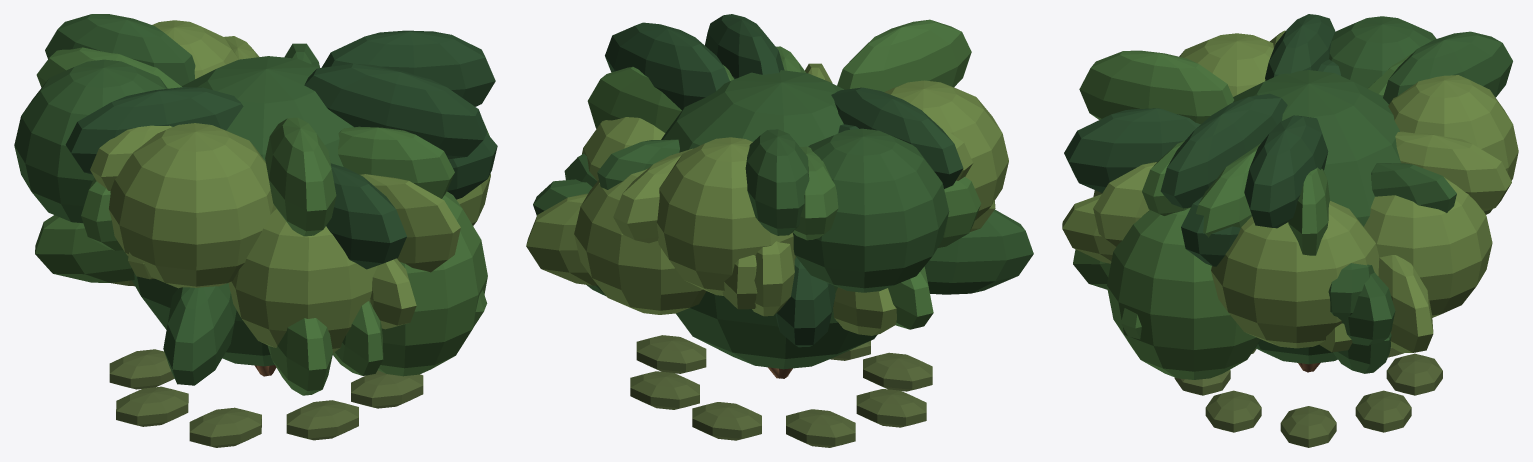
File: moita.glb
3 renders of one model, left to right at view 1: azimuth 30°, elevation 25°; view 2: azimuth 150°, elevation 25°; view 3: azimuth 270°, elevation 25°, orthographic. The views are drawn at different scales.
Parts seen in each view (by area): view 1: Massa de folhas 04, Massa de folhas 05, Núcleo de folhagem, Massa de folhas 03, Folha larga 22, Massa de folhas 06, Folha larga 31, Folha larga 17, Folha larga 28, Folha larga 37, Folha larga 26, Folha larga 30 (+18 smaller); view 2: Massa de folhas 03, Núcleo de folhagem, Massa de folhas 02, Massa de folhas 01, Folha larga 28, Folha larga 31, Massa de folhas 04, Folha larga 37, Folha larga 20, Folha larga 17, Folha larga 33, Folha larga 11 (+19 smaller); view 3: Massa de folhas 06, Massa de folhas 00, Núcleo de folhagem, Massa de folhas 01, Folha larga 28, Massa de folhas 02, Folha larga 22, Folha larga 26, Folha larga 31, Folha larga 20, Folha larga 35, Massa de folhas 03 (+21 smaller).
Boxes of the visible parts, left/top/right/bottom form: Massa de folhas 04: left=109, top=123, right=273, bottom=288; Massa de folhas 05: left=228, top=204, right=377, bottom=353; Núcleo de folhagem: left=132, top=56, right=353, bottom=366; Massa de folhas 03: left=14, top=59, right=167, bottom=223; Folha larga 22: left=304, top=63, right=487, bottom=159; Massa de folhas 06: left=378, top=191, right=487, bottom=376; Folha larga 31: left=321, top=30, right=495, bottom=106; Folha larga 17: left=65, top=87, right=243, bottom=174; Folha larga 28: left=265, top=117, right=336, bottom=236; Folha larga 37: left=163, top=283, right=236, bottom=385; Folha larga 26: left=326, top=163, right=406, bottom=269; Folha larga 30: left=338, top=126, right=454, bottom=198; Massa de folhas 03: left=792, top=128, right=949, bottom=292; Núcleo de folhagem: left=661, top=70, right=877, bottom=369; Massa de folhas 02: left=656, top=137, right=796, bottom=295; Massa de folhas 01: left=574, top=169, right=706, bottom=314; Folha larga 28: left=837, top=19, right=971, bottom=91; Folha larga 31: left=605, top=22, right=729, bottom=109; Massa de folhas 04: left=884, top=80, right=1008, bottom=220; Folha larga 37: left=924, top=209, right=1033, bottom=294; Folha larga 20: left=745, top=129, right=809, bottom=235; Folha larga 17: left=831, top=87, right=963, bottom=188; Folha larga 33: left=587, top=66, right=681, bottom=132; Folha larga 11: left=526, top=193, right=597, bottom=285; Massa de folhas 06: left=1106, top=207, right=1260, bottom=379; Massa de folhas 00: left=1211, top=201, right=1379, bottom=348; Núcleo de folhagem: left=1233, top=70, right=1400, bottom=364; Massa de folhas 01: left=1364, top=177, right=1492, bottom=317; Folha larga 28: left=1079, top=50, right=1233, bottom=124; Massa de folhas 02: left=1388, top=75, right=1518, bottom=214; Folha larga 22: left=1160, top=93, right=1287, bottom=208; Folha larga 26: left=1064, top=108, right=1200, bottom=193; Folha larga 31: left=1244, top=115, right=1328, bottom=228; Folha larga 20: left=1383, top=31, right=1512, bottom=103; Folha larga 35: left=1395, top=131, right=1511, bottom=211; Massa de folhas 03: left=1329, top=16, right=1436, bottom=88.
Size of the model in its own units: 0.7748 by 0.5956 by 0.7749.
